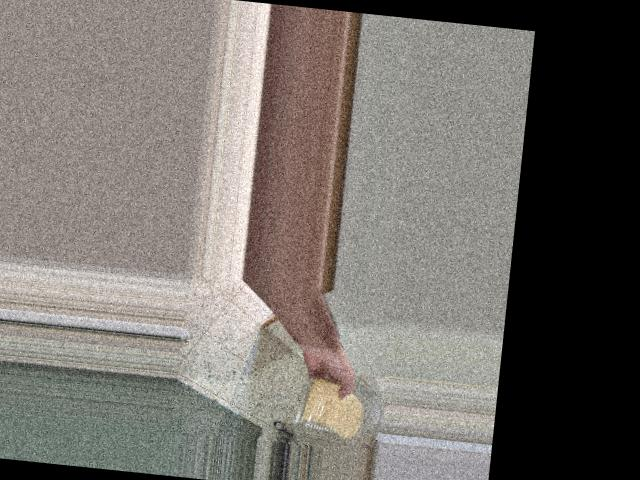cheese: (293, 374, 369, 445)
